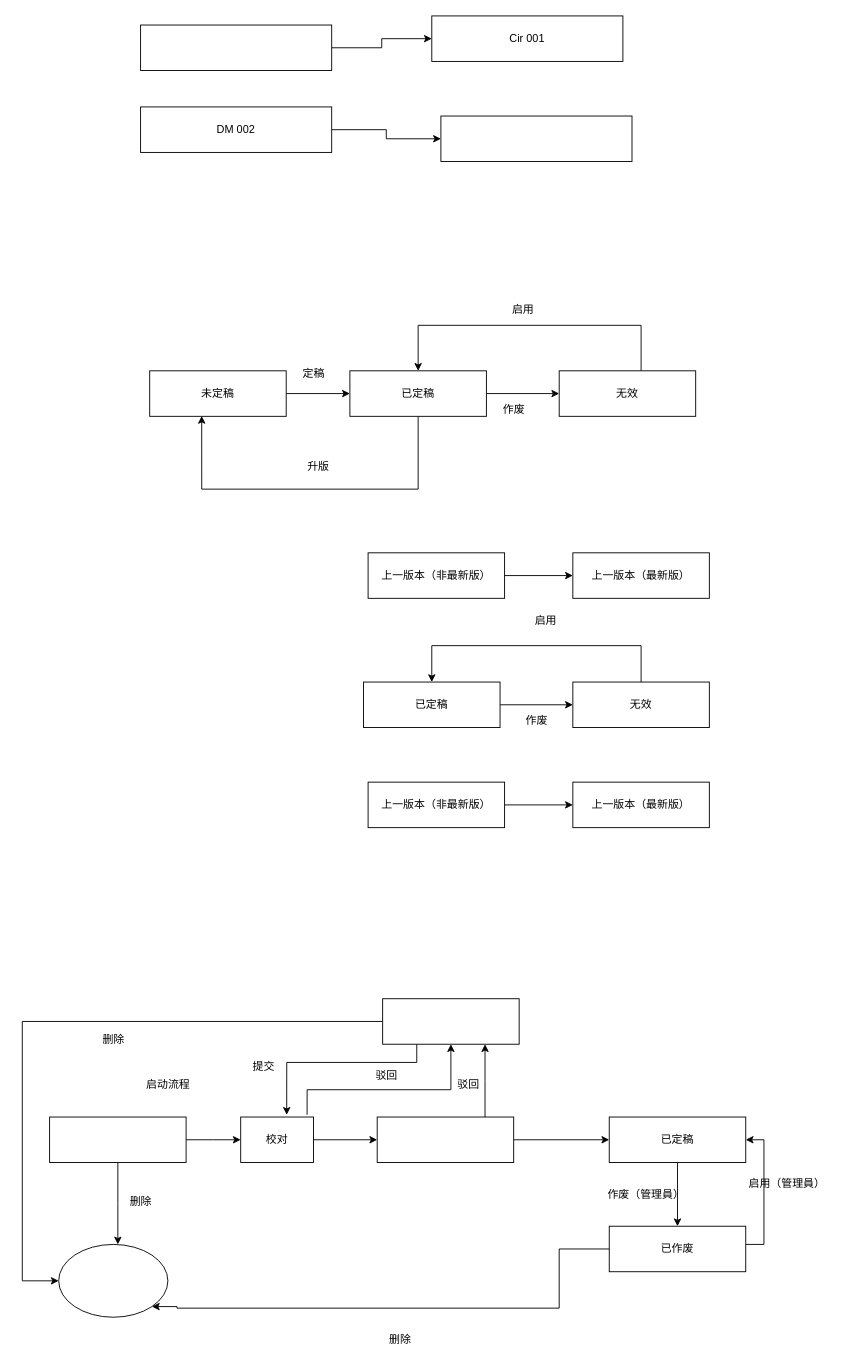
Some shapes in this 853 by 1370 pixel diagram are drawn without their labels. Here are the shapes that lost their labels. From the top down, the centre of each, then its label:
At [236,47]: "DM 001".
At [536,138]: "Cir 002".
At [450,1021]: "已驳回".
At [117,1139]: "已保存".
At [445,1139]: "审核（会签）".
At [113,1280]: "已删除".
